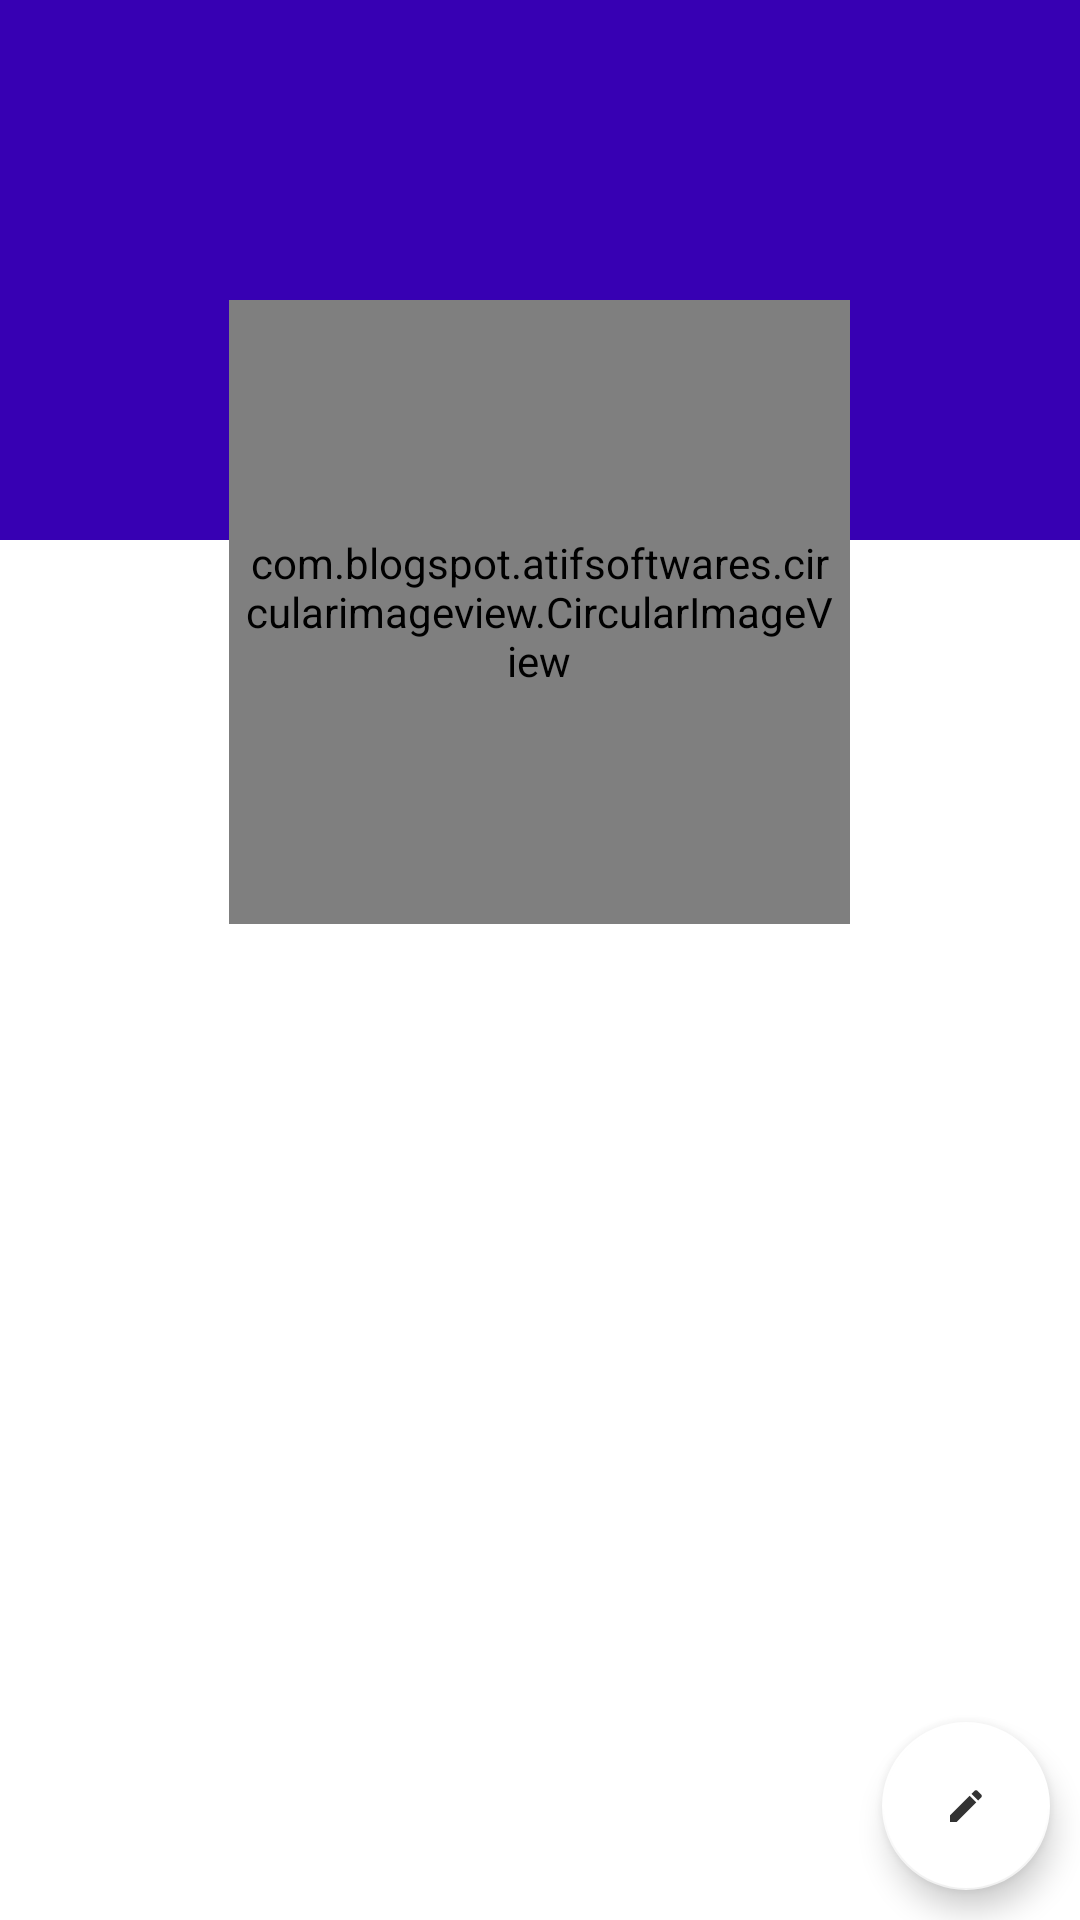

Where to tap for icons on this 1080×1920 app screen, as (x,y):
edit: (969,1840)
